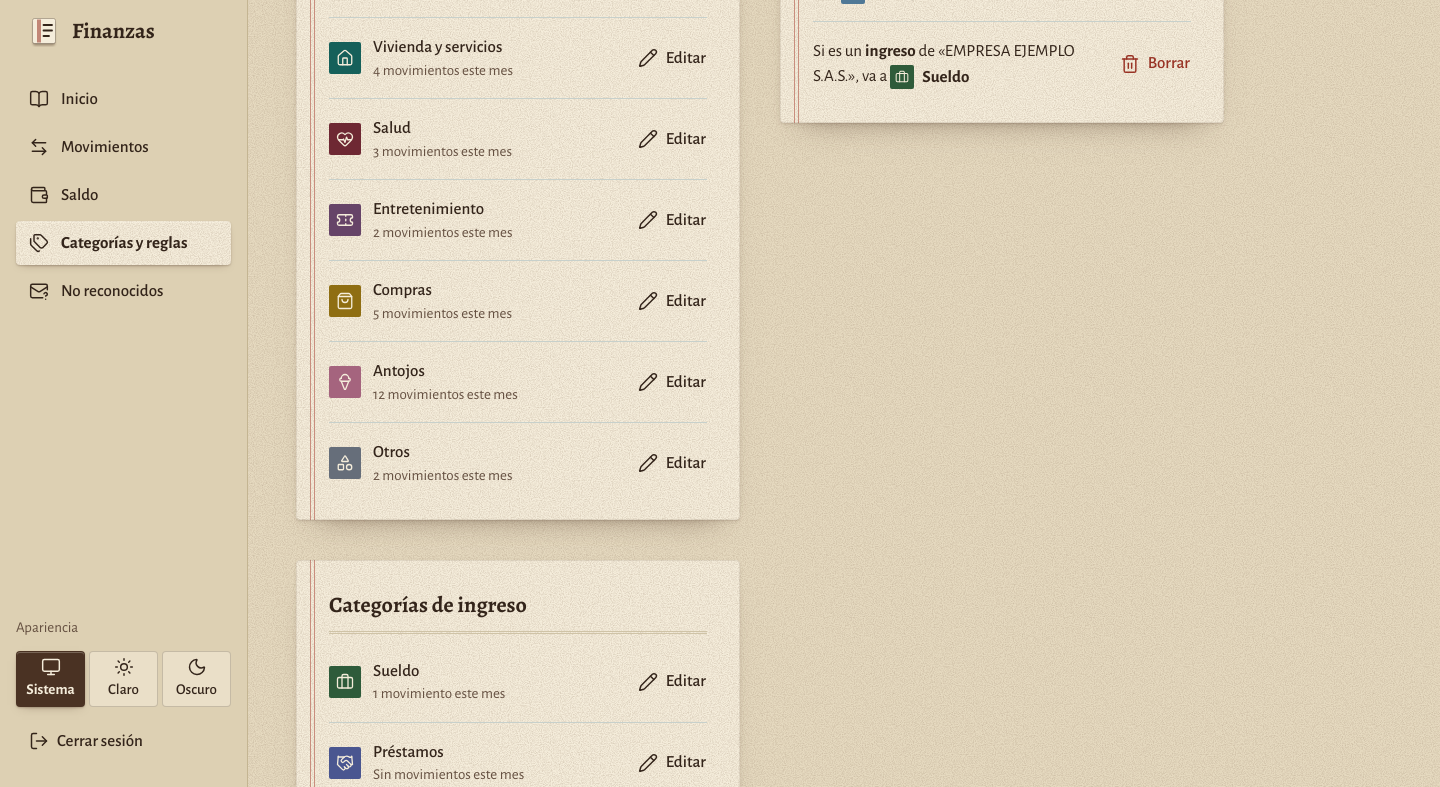
Scenario: Categorías y reglas › borrar: elige a qué categoría de la misma clase pasan sus movimientos y reglas
(page scrolled)
Step 1. Click the button named "Editar Antojos" → [672, 382], box [625,360,719,404]
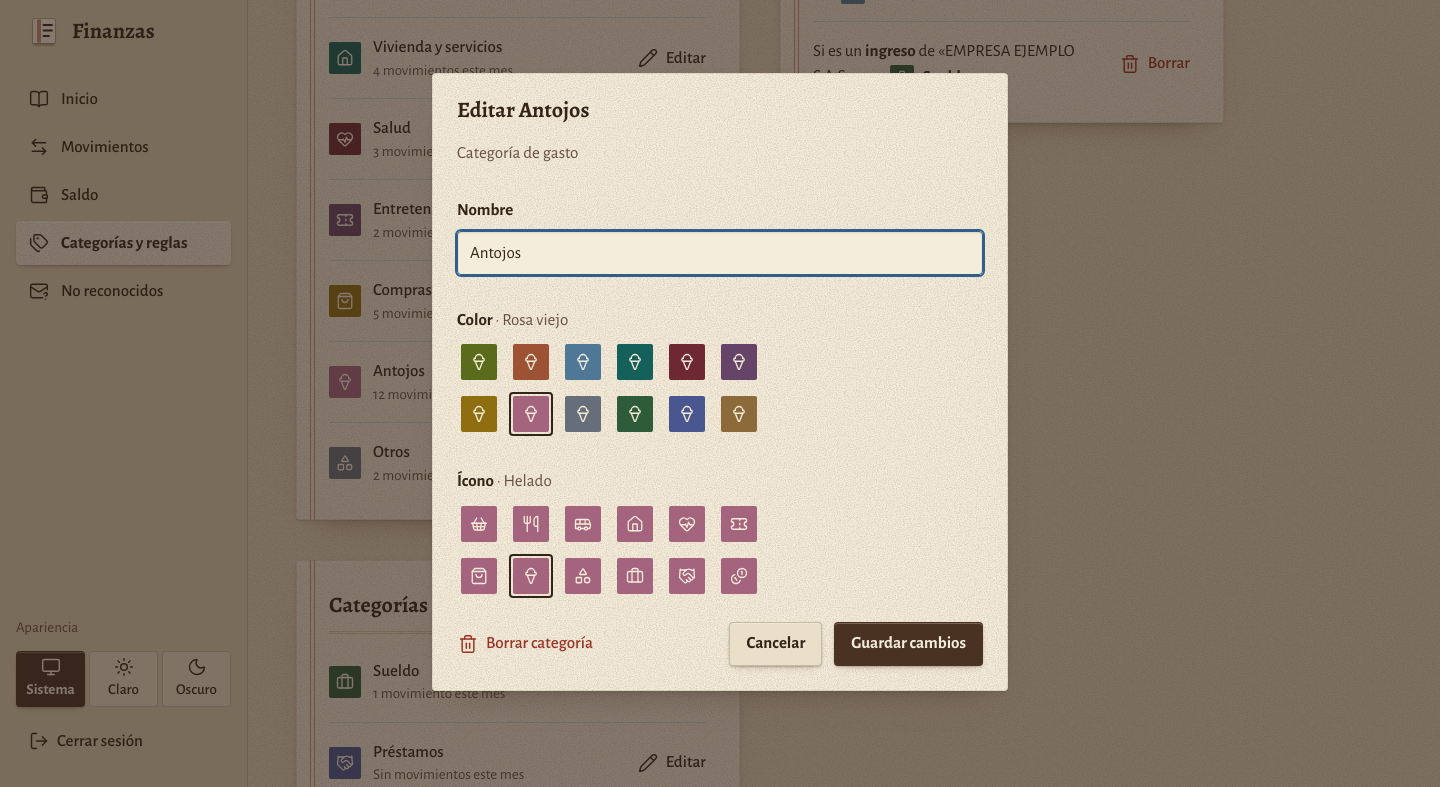
Step 2. Click the button "Borrar categoría" → [525, 644], box [445,622,606,666]
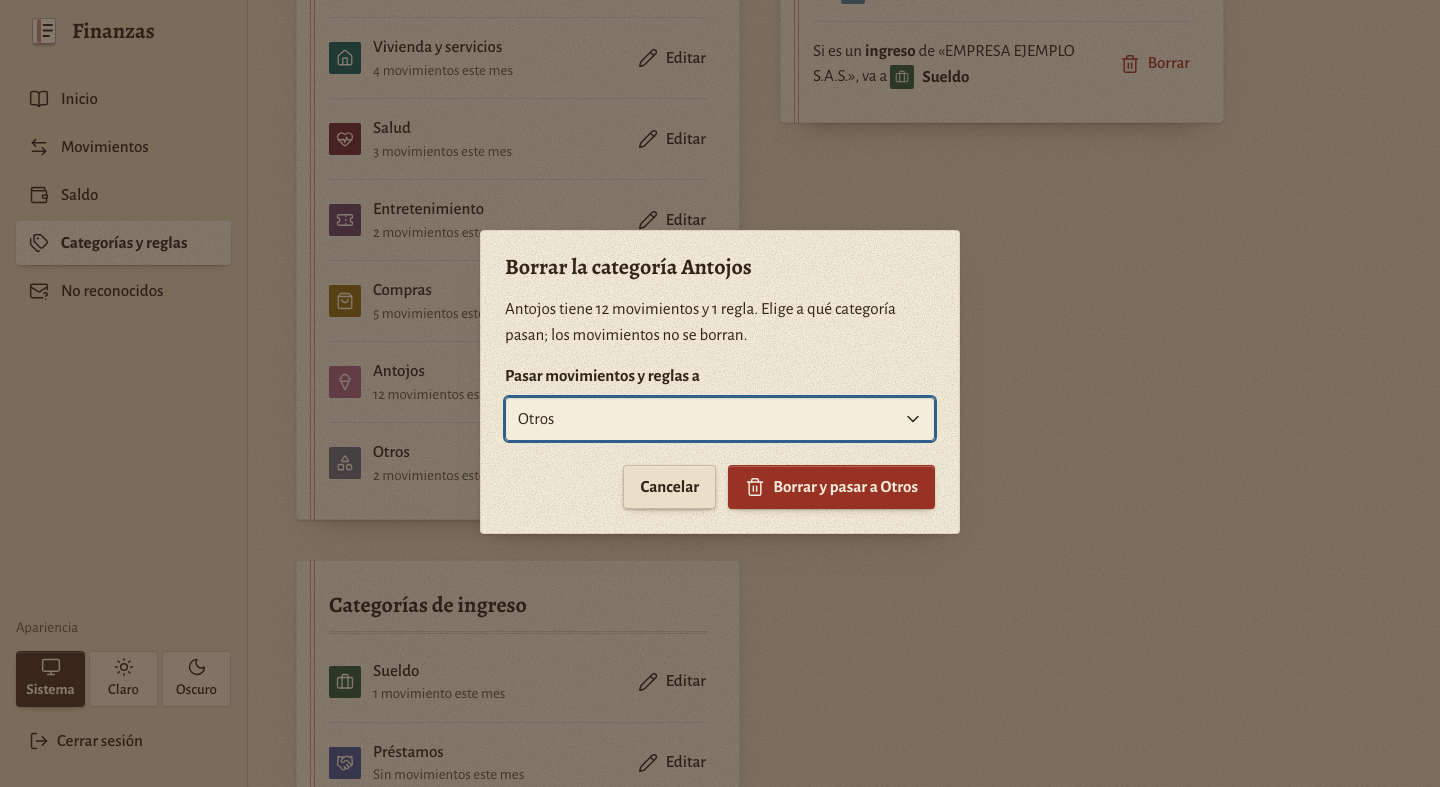
Result: the heading "Borrar la categoría Antojos" is shown at [505,252,752,282]
Result: the dropdown labelled "Pasar movimientos y reglas a" shows "Otros"
Result: the button "Borrar y pasar a Otros" is shown at [728,465,935,509]
Step 3. Select "Compras" in the dropdown labelled "Pasar movimientos y reglas a" → [720, 419], box [505,397,935,441]
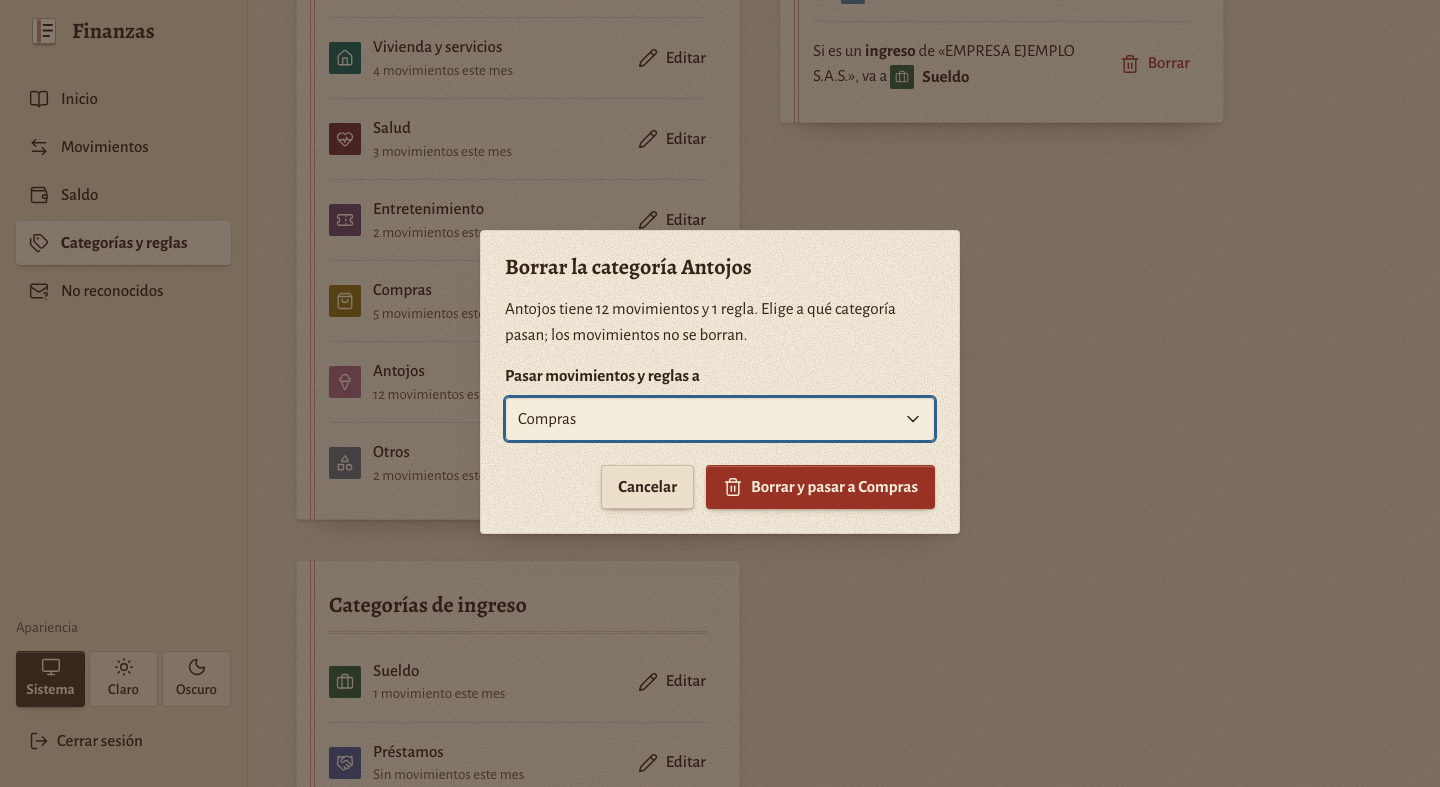
Step 4. Click the button "Borrar y pasar a Compras" → [821, 487], box [706,465,935,509]
(page scrolled)
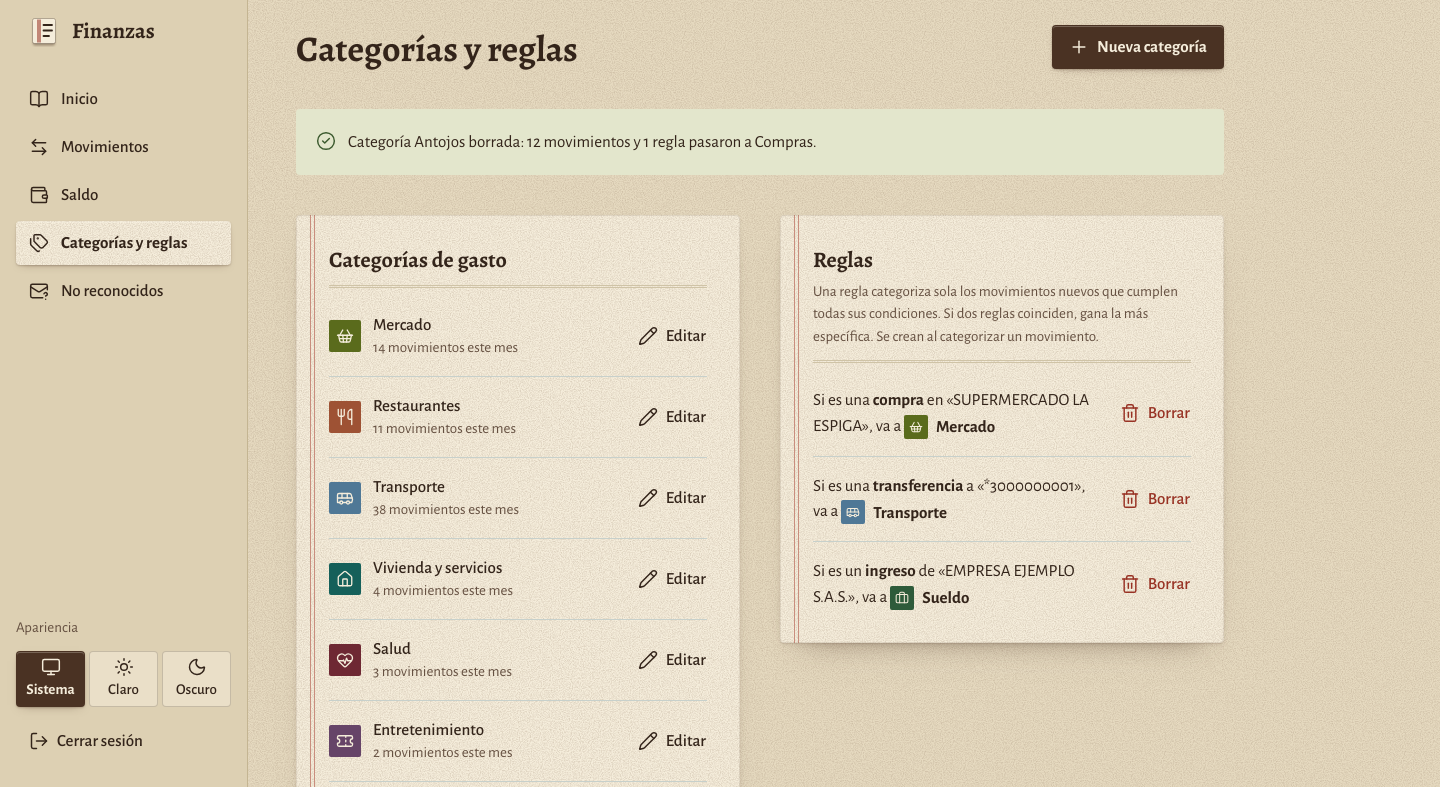
Result: the text "Categoría Antojos borrada: 12 movimientos y 1 regla pasaron a Compras." is shown at [348,133,817,150]
